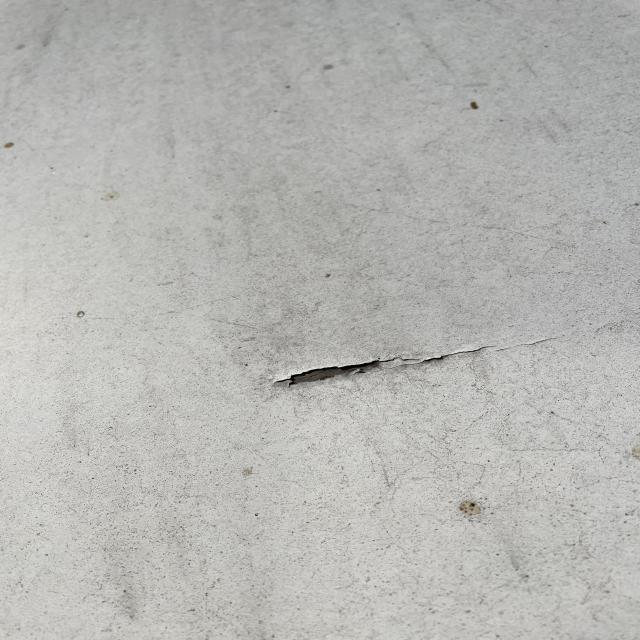crack: (235, 337, 512, 393)
